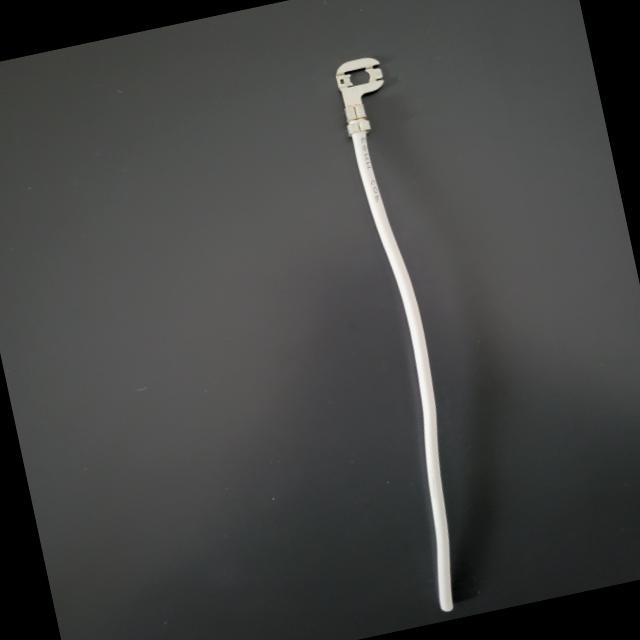good: (347, 0, 606, 311)
